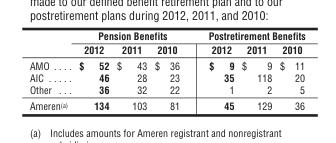table: (28, 29, 304, 111)
table column: (28, 29, 72, 111), (193, 29, 237, 111), (150, 29, 193, 111), (72, 29, 112, 111), (112, 29, 150, 111), (237, 29, 275, 111), (275, 29, 304, 111)
table column header: (28, 29, 304, 57)
table row: (28, 42, 304, 57), (28, 57, 304, 71), (28, 83, 304, 97), (28, 97, 304, 111), (28, 29, 304, 42), (28, 71, 304, 83)
table spanning cell: (72, 29, 193, 42), (193, 29, 304, 42)
